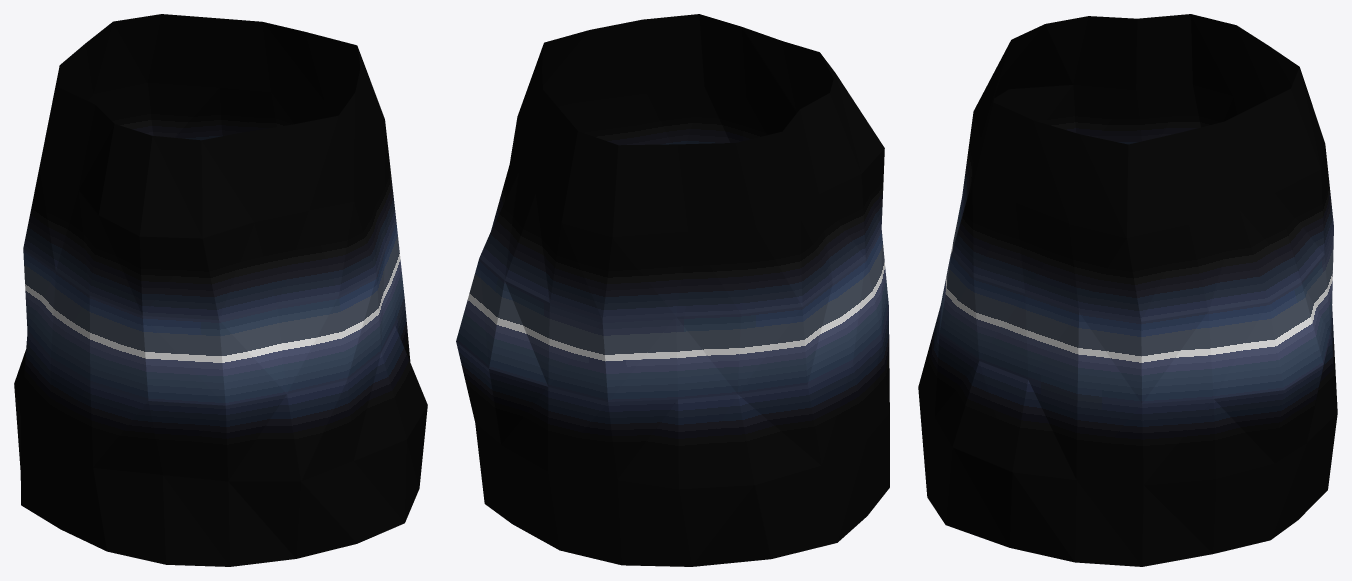
The model's file is 0330_huoyanchanrao.glb.
3 views of the same model, side by side, from view 1: azimuth 30°, elevation 25°; view 2: azimuth 150°, elevation 25°; view 3: azimuth 270°, elevation 25° (orthographic).
Bounding box in the file's own units: 2.04 × 2.2 × 2.08.
Materials: 1 (1 with a texture image).
